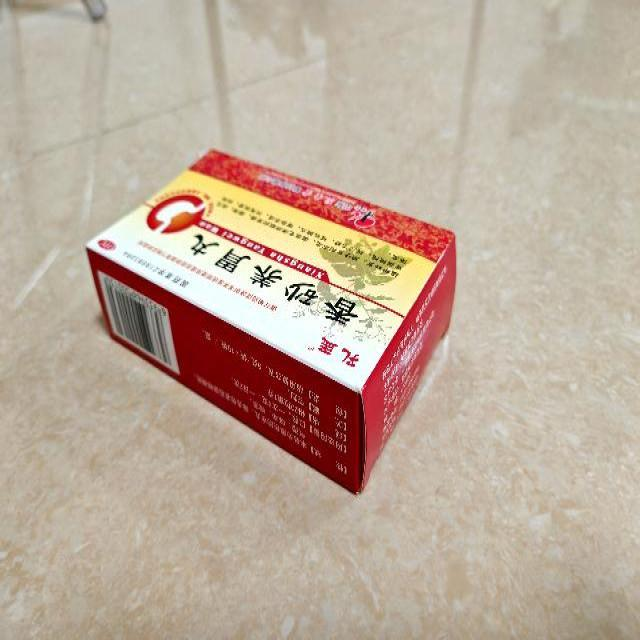box: (84, 146, 456, 496)
